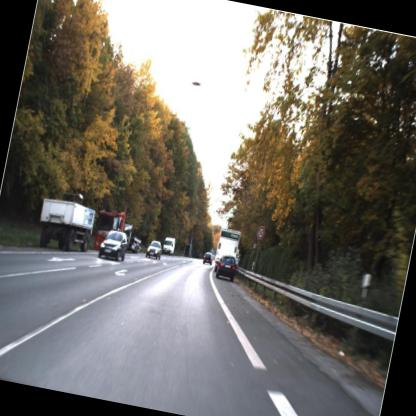prohibitory: (251, 222, 268, 241)
